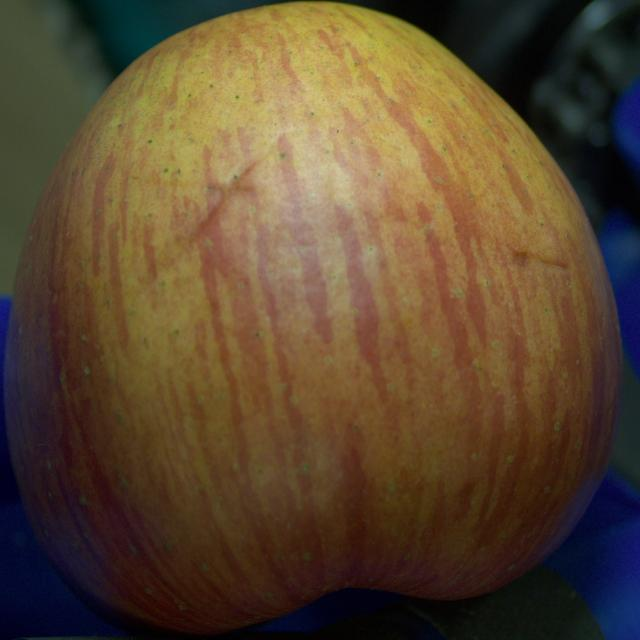apple: (4, 2, 621, 635)
scratch: (188, 157, 262, 244), (509, 244, 573, 273)
